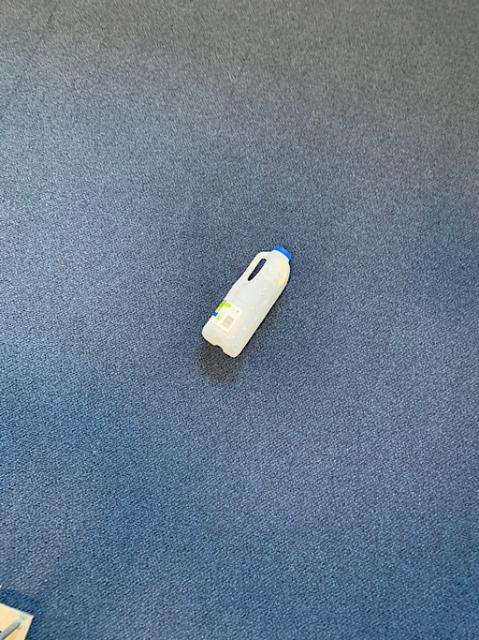plastic: (201, 246, 290, 355)
